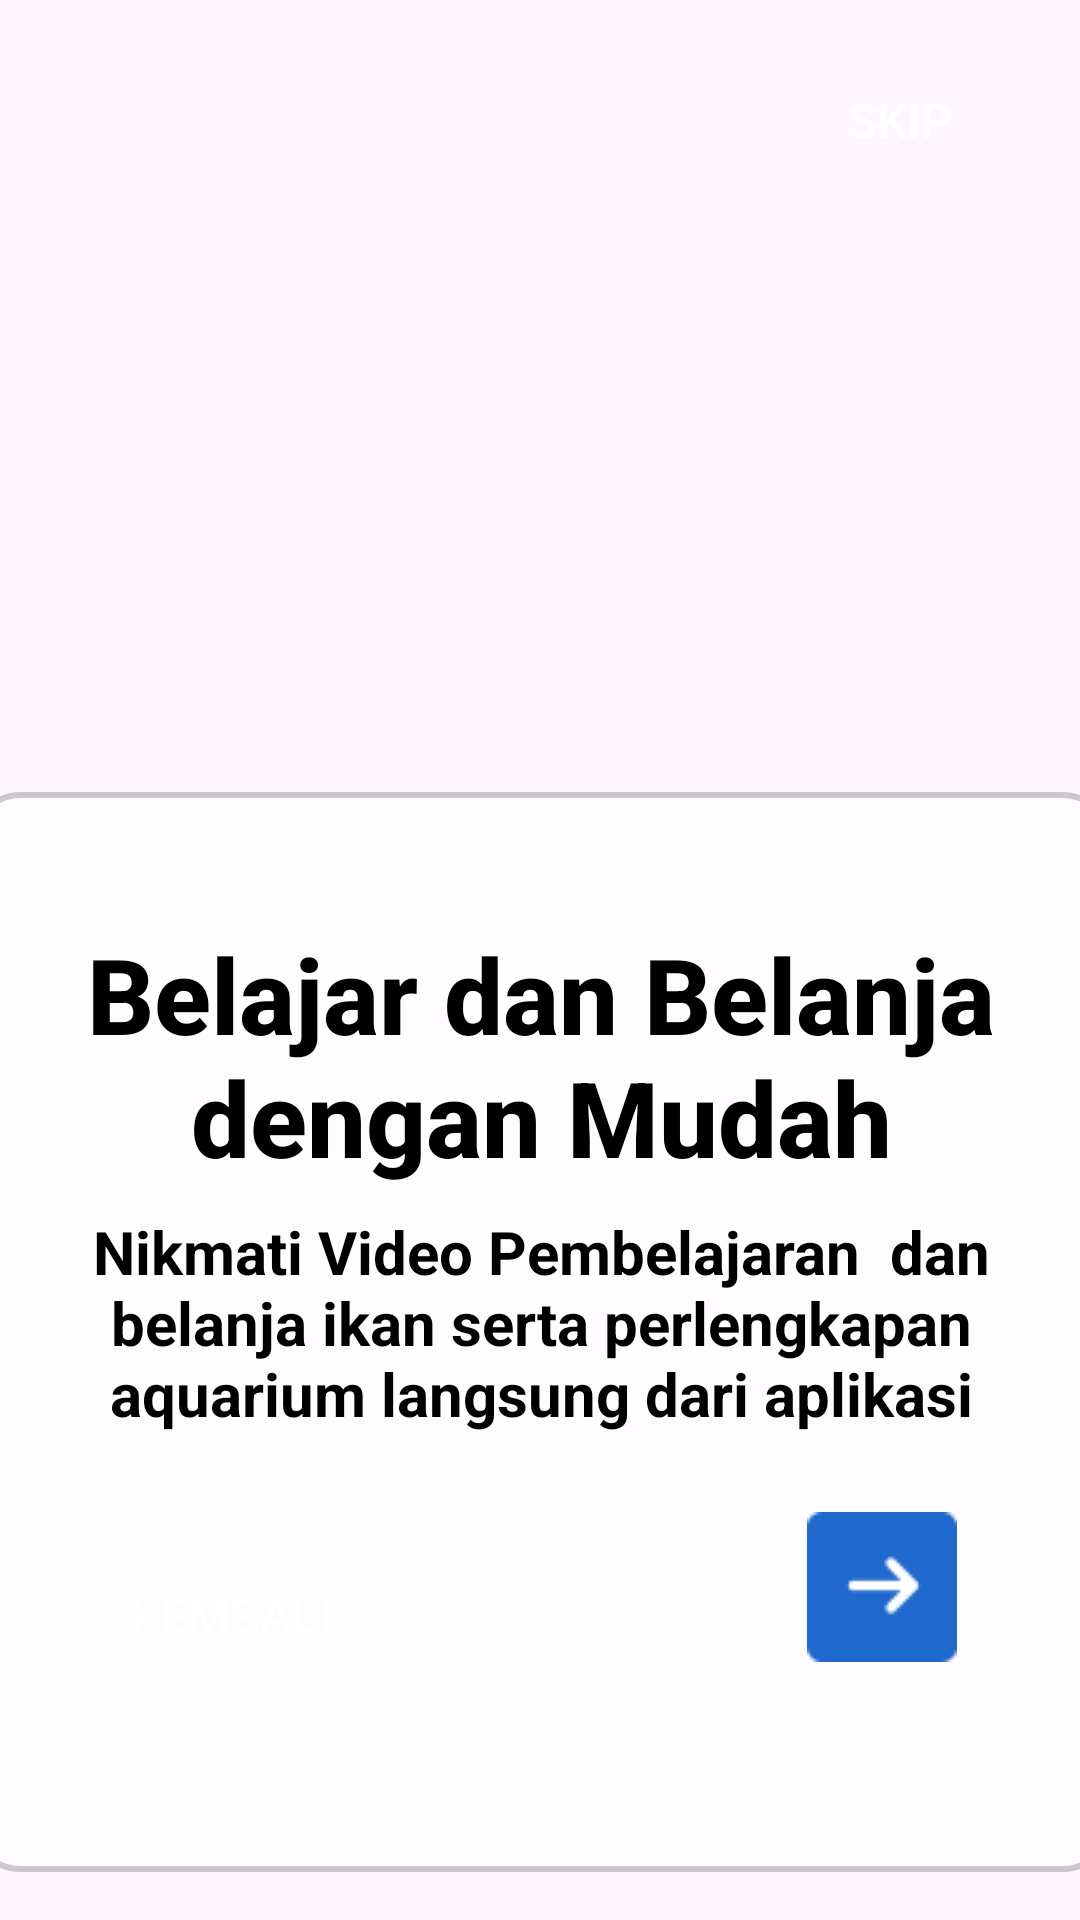

Icon bounding boxes for this 1080×1920 phone screenshot, format bbox(x1, y1, x2, y2):
Next: bbox(807, 1512, 957, 1662)
